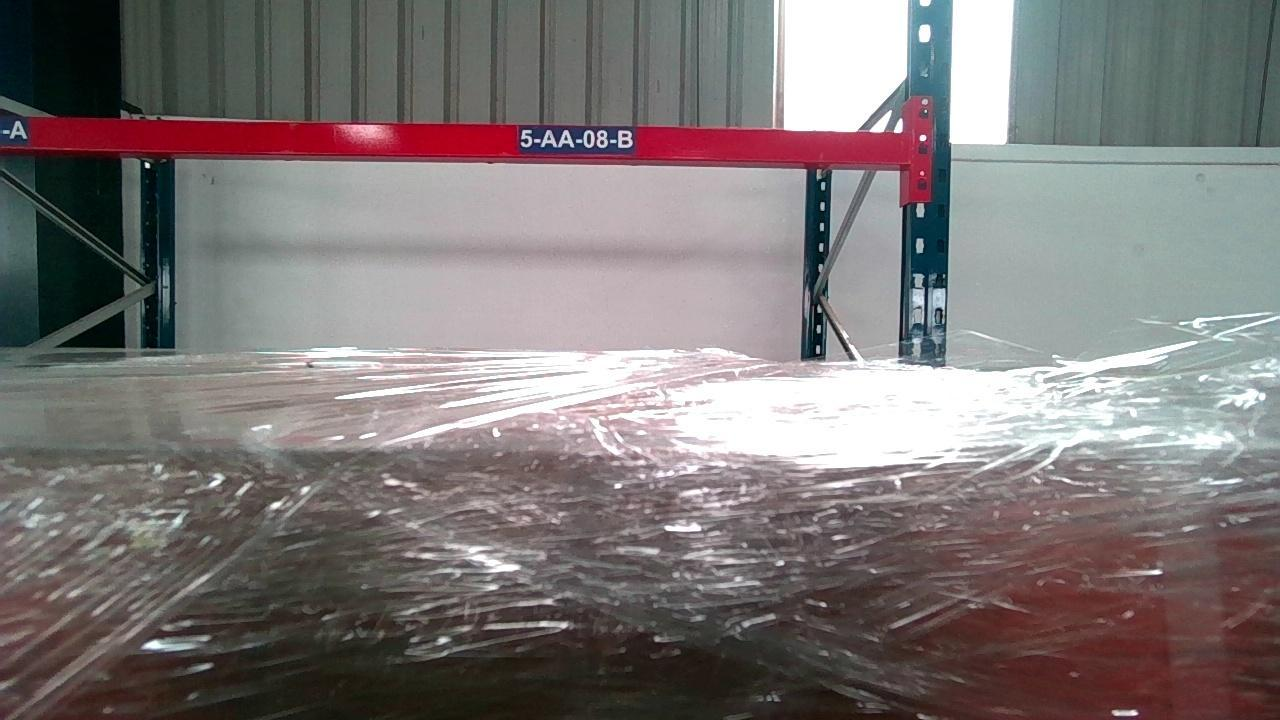h_rack: (0, 114, 907, 168)
